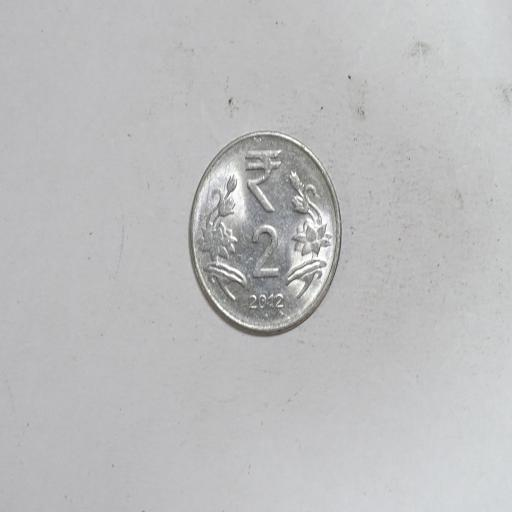rupee2: (187, 132, 340, 334)
